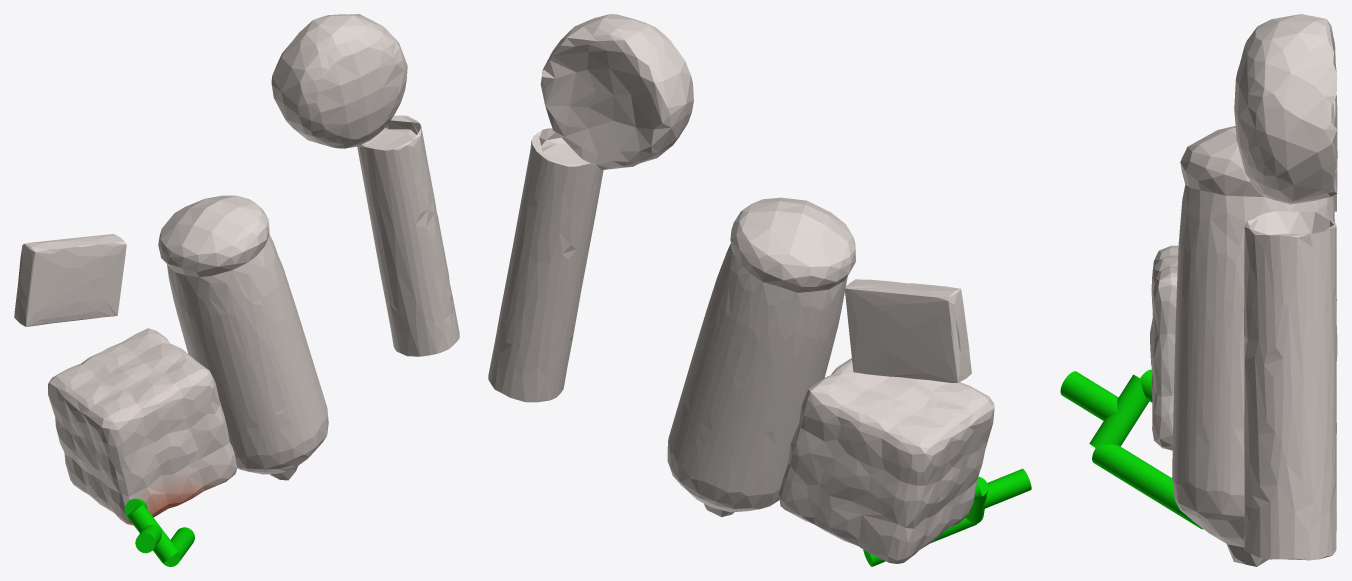
File: round_000_trial_000.obj
3 views of the same model, side by side, from view 1: azimuth 30°, elevation 25°; view 2: azimuth 150°, elevation 25°; view 3: azimuth 270°, elevation 25° (orthographic). The views are drawn at different scales.
Visible parts, largest first — view 1: geometry_0, geometry_1; view 2: geometry_0, geometry_1; view 3: geometry_0, geometry_1.
Boxes of the visible parts, x1,y1,x2,y2 form: geometry_0: (14, 14, 459, 525); geometry_1: (124, 498, 194, 566); geometry_0: (488, 14, 994, 563); geometry_1: (863, 468, 1031, 566); geometry_0: (1150, 14, 1337, 566); geometry_1: (1060, 369, 1203, 529).
Size of the model in its own units: 0.2415 by 0.248 by 0.0986.
